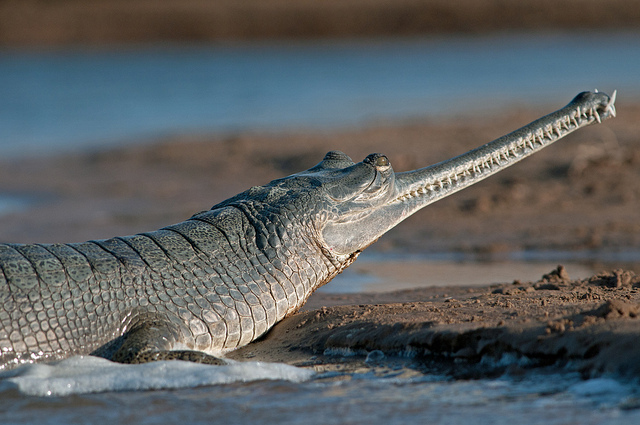Crocodile: (1, 73, 618, 386)
